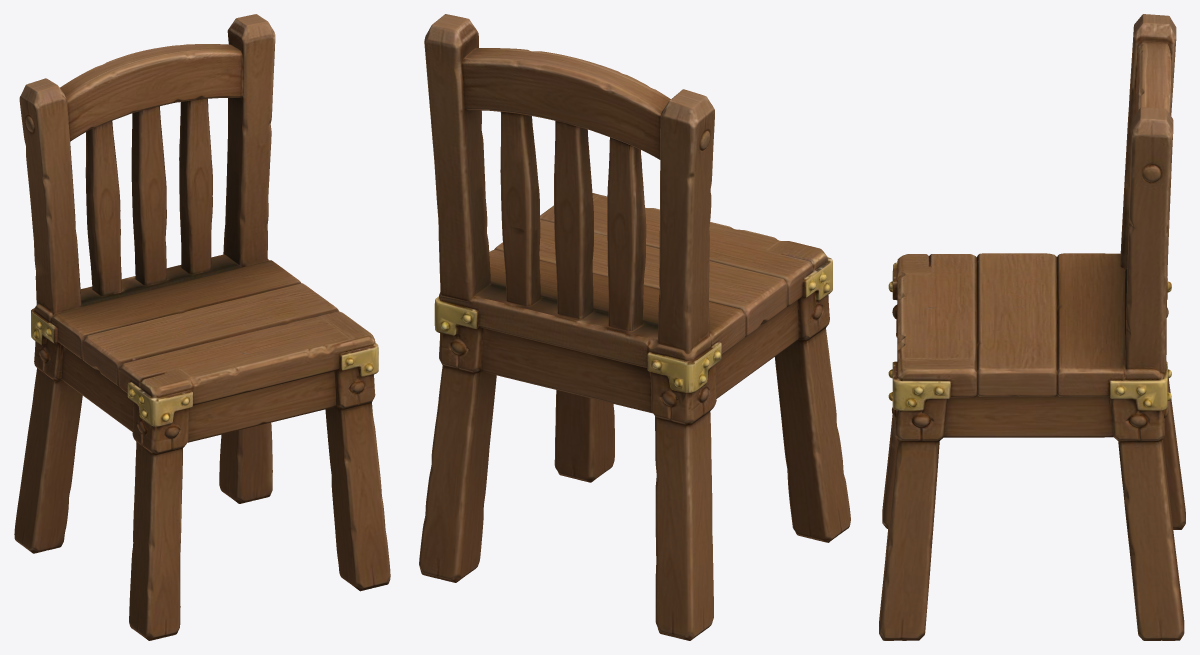
Rendered from chair.glb.
3 views of the same model, side by side, from view 1: azimuth 30°, elevation 25°; view 2: azimuth 150°, elevation 25°; view 3: azimuth 270°, elevation 25° (orthographic). The views are drawn at different scales.
Visible parts, largest first — view 1: node_0; view 2: node_0; view 3: node_0.
Boxes of the visible parts, x1=… form: node_0: x1=14, y1=14, x2=390, y2=640; node_0: x1=419, y1=14, x2=850, y2=640; node_0: x1=879, y1=14, x2=1185, y2=640.
Bounding box in the file's own units: 0.5172 × 0.9694 × 0.5169.
Materials: 1 (1 with a texture image).
